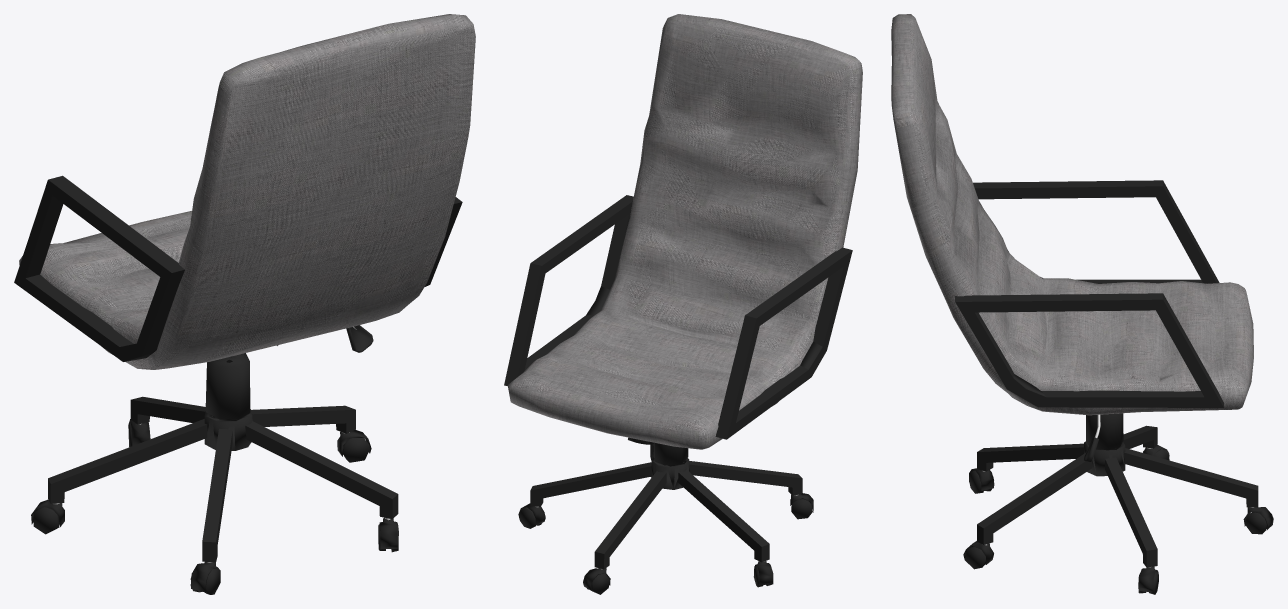
The model's file is Office Chair.glb.
The picture shows the model from 3 angles, left to right: view 1: azimuth 30°, elevation 25°; view 2: azimuth 150°, elevation 25°; view 3: azimuth 270°, elevation 25°; orthographic projection. The views are drawn at different scales.
Visible parts, largest first — view 1: Estelle Desk Swivel Chair; view 2: Estelle Desk Swivel Chair; view 3: Estelle Desk Swivel Chair.
Boxes of the visible parts, x1,y1,x2,y2 form: Estelle Desk Swivel Chair: (14, 14, 475, 594); Estelle Desk Swivel Chair: (504, 14, 862, 594); Estelle Desk Swivel Chair: (891, 14, 1273, 594).
Bounding box in the file's own units: 0.6454 × 1.05 × 0.7671.
Materials: 5 (1 with a texture image).
